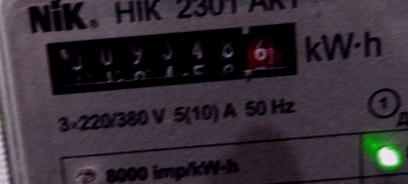0: (98, 41, 115, 66), (68, 44, 83, 71)
3: (159, 35, 175, 63)
4: (189, 33, 205, 61)
6: (251, 35, 270, 63)
8: (219, 31, 236, 61)
9: (128, 39, 145, 66)
screen: (36, 13, 310, 105)
